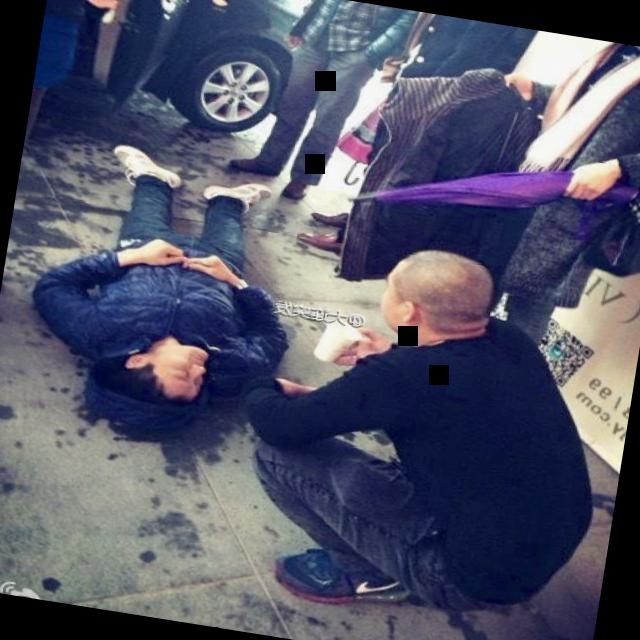Fall-Detected: (4, 132, 334, 456)
